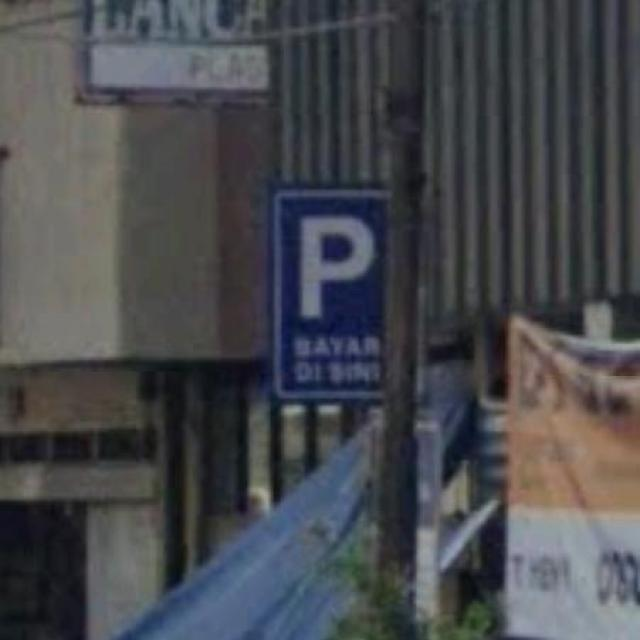traffic sign: (268, 179, 388, 400)
